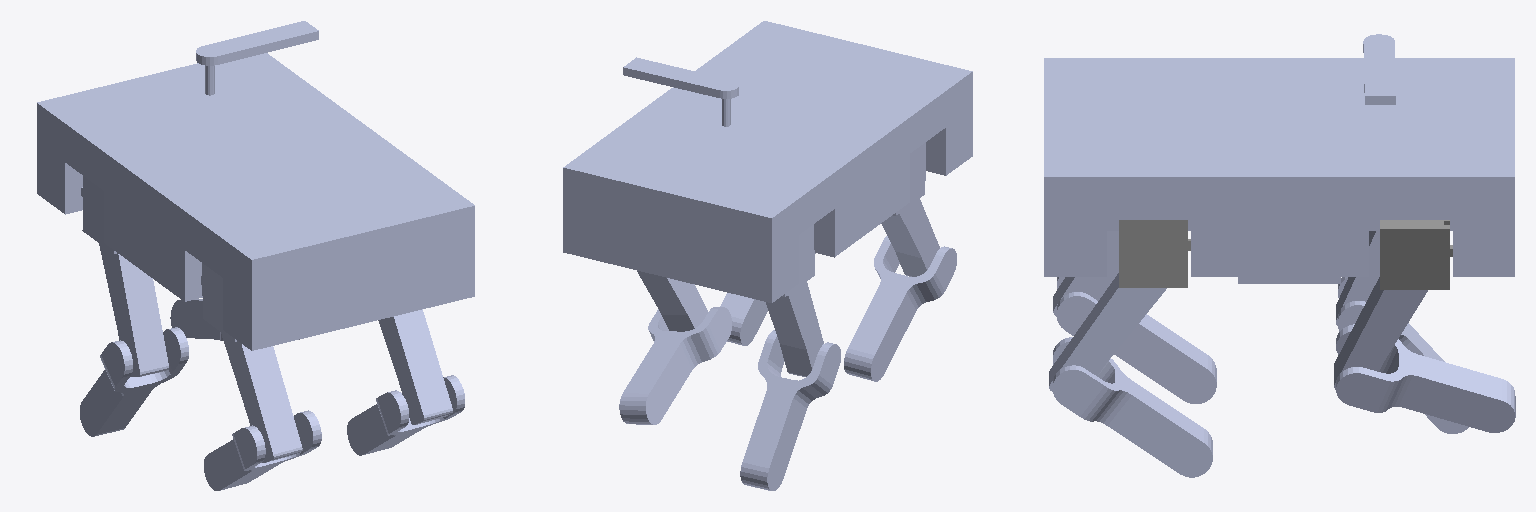
The robot description file, URDF, robot "rover_gazebosim":
<?xml version="1.0" encoding="utf-8"?>
<!-- This URDF was automatically created by SolidWorks to URDF Exporter! Originally created by Stephen Brawner (brawner@gmail.com) 
     Commit Version: 1.6.0-4-g7f85cfe  Build Version: 1.6.7995.38578
     For more information, please see http://wiki.ros.org/sw_urdf_exporter -->
<robot
  name="rover_gazebosim">
  <link
    name="body">
    <inertial>
      <origin
        xyz="0.113786796564404 0.210384838000589 -0.0515736103548764"
        rpy="0 0 0" />
      <mass
        value="11.151373897445" />
      <inertia
        ixx="0.194163171939644"
        ixy="9.7428792693228E-18"
        ixz="1.60735826972413E-17"
        iyy="0.0754852490416872"
        iyz="0.000332799994502401"
        izz="0.244153010760226" />
    </inertial>
    <visual>
      <origin
        xyz="0 0 0"
        rpy="0 0 0" />
      <geometry>
        <mesh
          filename="package://rover_gazebosim/meshes/body.STL" />
      </geometry>
      <material
        name="">
        <color
          rgba="0.792156862745098 0.819607843137255 0.933333333333333 1" />
      </material>
    </visual>
    <collision>
      <origin
        xyz="0 0 0"
        rpy="0 0 0" />
      <geometry>
        <mesh
          filename="package://rover_gazebosim/meshes/body.STL" />
      </geometry>
    </collision>
  </link>
  <link
    name="lf">
    <inertial>
      <origin
        xyz="0.00670884200432043 0.0342541979478499 0.00101544789727115"
        rpy="0 0 0" />
      <mass
        value="0.109939448590777" />
      <inertia
        ixx="9.39389980696909E-05"
        ixy="9.99024686964962E-07"
        ixz="1.83827439379185E-05"
        iyy="0.000126169030112145"
        iyz="-1.17698408701748E-06"
        izz="0.000114820764088305" />
    </inertial>
    <visual>
      <origin
        xyz="0 0 0"
        rpy="0 0 0" />
      <geometry>
        <mesh
          filename="package://rover_gazebosim/meshes/lf.STL" />
      </geometry>
      <material
        name="">
        <color
          rgba="0.792156862745098 0.819607843137255 0.933333333333333 1" />
      </material>
    </visual>
    <collision>
      <origin
        xyz="0 0 0"
        rpy="0 0 0" />
      <geometry>
        <mesh
          filename="package://rover_gazebosim/meshes/lf.STL" />
      </geometry>
    </collision>
  </link>
  <joint
    name="j1"
    type="revolute">
    <origin
      xyz="0.028418 0.305 -0.0887"
      rpy="0 0 0" />
    <parent
      link="body" />
    <child
      link="lf" />
    <axis
      xyz="0 -1 0" />
    <limit
      lower="-3.15"
      upper="3.15"
      effort="100"
      velocity="2" />
  </joint>
  <link
    name="lft">
    <inertial>
      <origin
        xyz="0.0249546351051042 -0.0265951672077813 -0.0611042640329306"
        rpy="0 0 0" />
      <mass
        value="0.214968868775256" />
      <inertia
        ixx="0.000553438869008273"
        ixy="-1.65313928690804E-06"
        ixz="-3.81921876719966E-06"
        iyy="0.000472387692450724"
        iyz="-0.000185459644548603"
        izz="0.000125008740988362" />
    </inertial>
    <visual>
      <origin
        xyz="0 0 0"
        rpy="0 0 0" />
      <geometry>
        <mesh
          filename="package://rover_gazebosim/meshes/lft.STL" />
      </geometry>
      <material
        name="">
        <color
          rgba="0.792156862745098 0.819607843137255 0.933333333333333 1" />
      </material>
    </visual>
    <collision>
      <origin
        xyz="0 0 0"
        rpy="0 0 0" />
      <geometry>
        <mesh
          filename="package://rover_gazebosim/meshes/lft.STL" />
      </geometry>
    </collision>
  </link>
  <joint
    name="j12"
    type="revolute">
    <origin
      xyz="-0.030376 0.033595 -0.027163"
      rpy="0 0 0" />
    <parent
      link="lf" />
    <child
      link="lft" />
    <axis
      xyz="-0.99996 0 0.0089134" />
    <limit
      lower="-3.15"
      upper="3.15"
      effort="100"
      velocity="2" />
  </joint>
  <link
    name="lfc">
    <inertial>
      <origin
        xyz="-0.0292186212615104 0.0490977223371922 -0.0580543027687059"
        rpy="0 0 0" />
      <mass
        value="0.222303065519725" />
      <inertia
        ixx="0.000511641589017345"
        ixy="1.996880463663E-06"
        ixz="-1.99585563630291E-06"
        iyy="0.000365182486857749"
        iyz="0.000224022708751582"
        izz="0.000287751642436189" />
    </inertial>
    <visual>
      <origin
        xyz="0 0 0"
        rpy="0 0 0" />
      <geometry>
        <mesh
          filename="package://rover_gazebosim/meshes/lfc.STL" />
      </geometry>
      <material
        name="">
        <color
          rgba="0.792156862745098 0.819607843137255 0.933333333333333 1" />
      </material>
    </visual>
    <collision>
      <origin
        xyz="0 0 0"
        rpy="0 0 0" />
      <geometry>
        <mesh
          filename="package://rover_gazebosim/meshes/lfc.STL" />
      </geometry>
    </collision>
  </link>
  <joint
    name="j13"
    type="revolute">
    <origin
      xyz="0.056793 -0.053485 -0.12428"
      rpy="0 0 0" />
    <parent
      link="lft" />
    <child
      link="lfc" />
    <axis
      xyz="0.99996 0 -0.0089134" />
    <limit
      lower="-3.15"
      upper="3.15"
      effort="100"
      velocity="2" />
  </joint>
  <link
    name="rf">
    <inertial>
      <origin
        xyz="-0.00633865104283948 0.0342291979477745 0.00242095114205709"
        rpy="0 0 0" />
      <mass
        value="0.109939448590778" />
      <inertia
        ixx="8.72356406340229E-05"
        ixy="-1.22677409895047E-06"
        ixz="-1.23698153691151E-05"
        iyy="0.000126169030112146"
        iyz="-9.37212449982516E-07"
        izz="0.000121524121523972" />
    </inertial>
    <visual>
      <origin
        xyz="0 0 0"
        rpy="0 0 0" />
      <geometry>
        <mesh
          filename="package://rover_gazebosim/meshes/rf.STL" />
      </geometry>
      <material
        name="">
        <color
          rgba="0.627450980392157 0.627450980392157 0.627450980392157 1" />
      </material>
    </visual>
    <collision>
      <origin
        xyz="0 0 0"
        rpy="0 0 0" />
      <geometry>
        <mesh
          filename="package://rover_gazebosim/meshes/rf.STL" />
      </geometry>
    </collision>
  </link>
  <joint
    name="j2"
    type="revolute">
    <origin
      xyz="0.19876 0.30502 -0.0875"
      rpy="0 0 0" />
    <parent
      link="body" />
    <child
      link="rf" />
    <axis
      xyz="0 -1 0" />
    <limit
      lower="-3.15"
      upper="3.15"
      effort="100"
      velocity="2" />
  </joint>
  <link
    name="rft">
    <inertial>
      <origin
        xyz="-0.0373233578683926 -0.0273933610198274 -0.0540401763848489"
        rpy="0 0 0" />
      <mass
        value="0.214968868775256" />
      <inertia
        ixx="0.000535801218761615"
        ixy="-3.88031776575497E-05"
        ixz="-8.4692121806799E-05"
        iyy="0.000467450702036031"
        iyz="-0.000185965391353131"
        izz="0.000147583381649704" />
    </inertial>
    <visual>
      <origin
        xyz="0 0 0"
        rpy="0 0 0" />
      <geometry>
        <mesh
          filename="package://rover_gazebosim/meshes/rft.STL" />
      </geometry>
      <material
        name="">
        <color
          rgba="0.792156862745098 0.819607843137255 0.933333333333333 1" />
      </material>
    </visual>
    <collision>
      <origin
        xyz="0 0 0"
        rpy="0 0 0" />
      <geometry>
        <mesh
          filename="package://rover_gazebosim/meshes/rft.STL" />
      </geometry>
    </collision>
  </link>
  <joint
    name="j22"
    type="revolute">
    <origin
      xyz="0.023894 0.03357 -0.03301"
      rpy="0 0 0" />
    <parent
      link="rf" />
    <child
      link="rft" />
    <axis
      xyz="0.97892 0 -0.20426" />
    <limit
      lower="-3.15"
      upper="3.15"
      effort="100"
      velocity="2" />
  </joint>
  <link
    name="rfc">
    <inertial>
      <origin
        xyz="0.0227839827278775 0.0716580268119713 -0.0313150815339128"
        rpy="0 0 0" />
      <mass
        value="0.222303065519726" />
      <inertia
        ixx="0.000511210915176803"
        ixy="2.97798988949999E-05"
        ixz="-2.14927898202122E-06"
        iyy="0.000152005907483818"
        iyz="0.000142721057572667"
        izz="0.000501358895650669" />
    </inertial>
    <visual>
      <origin
        xyz="0 0 0"
        rpy="0 0 0" />
      <geometry>
        <mesh
          filename="package://rover_gazebosim/meshes/rfc.STL" />
      </geometry>
      <material
        name="">
        <color
          rgba="0.792156862745098 0.819607843137255 0.933333333333333 1" />
      </material>
    </visual>
    <collision>
      <origin
        xyz="0 0 0"
        rpy="0 0 0" />
      <geometry>
        <mesh
          filename="package://rover_gazebosim/meshes/rfc.STL" />
      </geometry>
    </collision>
  </link>
  <joint
    name="j23"
    type="revolute">
    <origin
      xyz="-0.082726 -0.055033 -0.10959"
      rpy="0 0 0" />
    <parent
      link="rft" />
    <child
      link="rfc" />
    <axis
      xyz="0.97892 0 -0.20426" />
    <limit
      lower="-3.15"
      upper="3.15"
      effort="100"
      velocity="2" />
  </joint>
  <link
    name="rb">
    <inertial>
      <origin
        xyz="-0.00662232922928152 0.0444542043625005 0.00112191050349619"
        rpy="0 0 0" />
      <mass
        value="0.109939448590778" />
      <inertia
        ixx="9.44550211019587E-05"
        ixy="-9.82536274128306E-07"
        ixz="-1.86663994154545E-05"
        iyy="0.000126169030112145"
        iyz="-1.19078307692047E-06"
        izz="0.000114304741056036" />
    </inertial>
    <visual>
      <origin
        xyz="0 0 0"
        rpy="0 0 0" />
      <geometry>
        <mesh
          filename="package://rover_gazebosim/meshes/rb.STL" />
      </geometry>
      <material
        name="">
        <color
          rgba="0.627450980392157 0.627450980392157 0.627450980392157 1" />
      </material>
    </visual>
    <collision>
      <origin
        xyz="0 0 0"
        rpy="0 0 0" />
      <geometry>
        <mesh
          filename="package://rover_gazebosim/meshes/rb.STL" />
      </geometry>
    </collision>
  </link>
  <joint
    name="j3"
    type="revolute">
    <origin
      xyz="0.19876 0.045 -0.0877"
      rpy="0 0 0" />
    <parent
      link="body" />
    <child
      link="rb" />
    <axis
      xyz="0 -1 0" />
    <limit
      lower="-3.15"
      upper="3.15"
      effort="100"
      velocity="2" />
  </joint>
  <link
    name="rbt">
    <inertial>
      <origin
        xyz="-0.0242422792739249 -0.0376990677299545 -0.0552708001608133"
        rpy="0 0 0" />
      <mass
        value="0.214968868775255" />
      <inertia
        ixx="0.000553292135114359"
        ixy="5.41171406291674E-06"
        ixz="7.91333849861869E-06"
        iyy="0.000390468192961197"
        iyz="-0.000236892001227658"
        izz="0.000207074974371801" />
    </inertial>
    <visual>
      <origin
        xyz="0 0 0"
        rpy="0 0 0" />
      <geometry>
        <mesh
          filename="package://rover_gazebosim/meshes/rbt.STL" />
      </geometry>
      <material
        name="">
        <color
          rgba="0.792156862745098 0.819607843137255 0.933333333333333 1" />
      </material>
    </visual>
    <collision>
      <origin
        xyz="0 0 0"
        rpy="0 0 0" />
      <geometry>
        <mesh
          filename="package://rover_gazebosim/meshes/rbt.STL" />
      </geometry>
    </collision>
  </link>
  <joint
    name="j32"
    type="revolute">
    <origin
      xyz="0.030851 0.043795 -0.026538"
      rpy="0 0 0" />
    <parent
      link="rb" />
    <child
      link="rbt" />
    <axis
      xyz="0.99974 0 0.022839" />
    <limit
      lower="-3.15"
      upper="3.15"
      effort="100"
      velocity="2" />
  </joint>
  <link
    name="rbc">
    <inertial>
      <origin
        xyz="0.0297150919921361 0.0616943451637069 -0.0441071139189825"
        rpy="0 0 0" />
      <mass
        value="0.222303065519725" />
      <inertia
        ixx="0.000511599541559762"
        ixy="-4.93664302851959E-06"
        ixz="2.61934444605325E-06"
        iyy="0.000255975801811284"
        iyz="0.000216096274263026"
        izz="0.00039700037494024" />
    </inertial>
    <visual>
      <origin
        xyz="0 0 0"
        rpy="0 0 0" />
      <geometry>
        <mesh
          filename="package://rover_gazebosim/meshes/rbc.STL" />
      </geometry>
      <material
        name="">
        <color
          rgba="0.792156862745098 0.819607843137255 0.933333333333333 1" />
      </material>
    </visual>
    <collision>
      <origin
        xyz="0 0 0"
        rpy="0 0 0" />
      <geometry>
        <mesh
          filename="package://rover_gazebosim/meshes/rbc.STL" />
      </geometry>
    </collision>
  </link>
  <joint
    name="j33"
    type="revolute">
    <origin
      xyz="-0.056015 -0.076195 -0.11375"
      rpy="0 0 0" />
    <parent
      link="rbt" />
    <child
      link="rbc" />
    <axis
      xyz="-0.99974 0 -0.022839" />
    <limit
      lower="-3.15"
      upper="3.15"
      effort="100"
      velocity="2" />
  </joint>
  <link
    name="lb">
    <inertial>
      <origin
        xyz="0.00667026139954352 -0.0209458020522575 0.00124390574943112"
        rpy="0 0 0" />
      <mass
        value="0.109939448590777" />
      <inertia
        ixx="9.27087699208611E-05"
        ixy="1.03862858962795E-06"
        ixz="1.76273218906206E-05"
        iyy="0.000126169030112145"
        iyz="-1.14218760239494E-06"
        izz="0.000116050992237133" />
    </inertial>
    <visual>
      <origin
        xyz="0 0 0"
        rpy="0 0 0" />
      <geometry>
        <mesh
          filename="package://rover_gazebosim/meshes/lb.STL" />
      </geometry>
      <material
        name="">
        <color
          rgba="0.792156862745098 0.819607843137255 0.933333333333333 1" />
      </material>
    </visual>
    <collision>
      <origin
        xyz="0 0 0"
        rpy="0 0 0" />
      <geometry>
        <mesh
          filename="package://rover_gazebosim/meshes/lb.STL" />
      </geometry>
    </collision>
  </link>
  <joint
    name="j4"
    type="revolute">
    <origin
      xyz="0.028418 0.1104 -0.0885"
      rpy="0 0 0" />
    <parent
      link="body" />
    <child
      link="lb" />
    <axis
      xyz="0 -1 0" />
    <limit
      lower="-3.15"
      upper="3.15"
      effort="100"
      velocity="2" />
  </joint>
  <link
    name="lbt">
    <inertial>
      <origin
        xyz="0.0269012377270597 -0.0358698225135401 -0.0552580202863181"
        rpy="0 0 0" />
      <mass
        value="0.214968868775255" />
      <inertia
        ixx="0.000553242383170547"
        ixy="5.81314181584074E-06"
        ixz="9.13276082781338E-06"
        iyy="0.000405927796826689"
        iyz="-0.00023029618682678"
        izz="0.000191665122450116" />
    </inertial>
    <visual>
      <origin
        xyz="0 0 0"
        rpy="0 0 0" />
      <geometry>
        <mesh
          filename="package://rover_gazebosim/meshes/lbt.STL" />
      </geometry>
      <material
        name="">
        <color
          rgba="0.792156862745098 0.819607843137255 0.933333333333333 1" />
      </material>
    </visual>
    <collision>
      <origin
        xyz="0 0 0"
        rpy="0 0 0" />
      <geometry>
        <mesh
          filename="package://rover_gazebosim/meshes/lbt.STL" />
      </geometry>
    </collision>
  </link>
  <joint
    name="j42"
    type="revolute">
    <origin
      xyz="-0.029431 -0.021605 -0.028185"
      rpy="0 0 0" />
    <parent
      link="lb" />
    <child
      link="lbt" />
    <axis
      xyz="-0.99968 0 -0.025234" />
    <limit
      lower="-3.15"
      upper="3.15"
      effort="100"
      velocity="2" />
  </joint>
  <link
    name="lbc">
    <inertial>
      <origin
        xyz="-0.0378553071358961 0.0616240210136068 -0.0458408372004173"
        rpy="0 0 0" />
      <mass
        value="0.222303065519725" />
      <inertia
        ixx="0.000511585899803618"
        ixy="-5.45994658498779E-06"
        ixz="2.91100884864983E-06"
        iyy="0.000256654347930465"
        iyz="0.000216303836829514"
        izz="0.0003963354705772" />
    </inertial>
    <visual>
      <origin
        xyz="0 0 0"
        rpy="0 0 0" />
      <geometry>
        <mesh
          filename="package://rover_gazebosim/meshes/lbc.STL" />
      </geometry>
      <material
        name="">
        <color
          rgba="0.792156862745098 0.819607843137255 0.933333333333333 1" />
      </material>
    </visual>
    <collision>
      <origin
        xyz="0 0 0"
        rpy="0 0 0" />
      <geometry>
        <mesh
          filename="package://rover_gazebosim/meshes/lbc.STL" />
      </geometry>
    </collision>
  </link>
  <joint
    name="j43"
    type="revolute">
    <origin
      xyz="0.071048 -0.072349 -0.11202"
      rpy="0 0 0" />
    <parent
      link="lbt" />
    <child
      link="lbc" />
    <axis
      xyz="0.99968 0 0.025234" />
    <limit
      lower="-3.15"
      upper="3.15"
      effort="100"
      velocity="2" />
  </joint>
  <link
    name="rgbd">
    <inertial>
      <origin
        xyz="0.0519757991577148 0.000553862591645693 -0.0117174770516906"
        rpy="0 0 0" />
      <mass
        value="0.0436947873204671" />
      <inertia
        ixx="5.44455523267729E-06"
        ixy="-7.27236303772772E-07"
        ixz="-3.90051316736406E-06"
        iyy="7.36824114503765E-05"
        iyz="-4.15645043632964E-08"
        izz="7.42538677078591E-05" />
    </inertial>
    <visual>
      <origin
        xyz="0 0 0"
        rpy="0 0 0" />
      <geometry>
        <mesh
          filename="package://rover_gazebosim/meshes/rgbd.STL" />
      </geometry>
      <material
        name="">
        <color
          rgba="0.792156862745098 0.819607843137255 0.933333333333333 1" />
      </material>
    </visual>
    <collision>
      <origin
        xyz="0 0 0"
        rpy="0 0 0" />
      <geometry>
        <mesh
          filename="package://rover_gazebosim/meshes/rgbd.STL" />
      </geometry>
    </collision>
  </link>
  <joint
    name="j5"
    type="revolute">
    <origin
      xyz="0.11325 0.30476 0.0856"
      rpy="0 0 0" />
    <parent
      link="body" />
    <child
      link="rgbd" />
    <axis
      xyz="0 0 -1" />
    <limit
      lower="-3.15"
      upper="3.15"
      effort="100"
      velocity="2" />
  </joint>

<!-- ros2_control hardware interface — 12 leg joints only, not camera -->
  <ros2_control name="GazeboSystem" type="system">
    <hardware>
      <plugin>ign_ros2_control/IgnitionSystem</plugin>
    </hardware>

    <!-- Left Front -->
    <joint name="j1">
      <command_interface name="position"/>
      <state_interface name="position"/>
      <state_interface name="velocity"/>
    </joint>
    <joint name="j12">
      <command_interface name="position"/>
      <state_interface name="position"/>
      <state_interface name="velocity"/>
    </joint>
    <joint name="j13">
      <command_interface name="position"/>
      <state_interface name="position"/>
      <state_interface name="velocity"/>
    </joint>

    <!-- Right Front -->
    <joint name="j2">
      <command_interface name="position"/>
      <state_interface name="position"/>
      <state_interface name="velocity"/>
    </joint>
    <joint name="j22">
      <command_interface name="position"/>
      <state_interface name="position"/>
      <state_interface name="velocity"/>
    </joint>
    <joint name="j23">
      <command_interface name="position"/>
      <state_interface name="position"/>
      <state_interface name="velocity"/>
    </joint>

    <!-- Right Back -->
    <joint name="j3">
      <command_interface name="position"/>
      <state_interface name="position"/>
      <state_interface name="velocity"/>
    </joint>
    <joint name="j32">
      <command_interface name="position"/>
      <state_interface name="position"/>
      <state_interface name="velocity"/>
    </joint>
    <joint name="j33">
      <command_interface name="position"/>
      <state_interface name="position"/>
      <state_interface name="velocity"/>
    </joint>

    <!-- Left Back -->
    <joint name="j4">
      <command_interface name="position"/>
      <state_interface name="position"/>
      <state_interface name="velocity"/>
    </joint>
    <joint name="j42">
      <command_interface name="position"/>
      <state_interface name="position"/>
      <state_interface name="velocity"/>
    </joint>
    <joint name="j43">
      <command_interface name="position"/>
      <state_interface name="position"/>
      <state_interface name="velocity"/>
    </joint>
  </ros2_control>

  <!-- Gazebo Fortress plugin — loads controller_manager inside Gazebo -->
  <gazebo>
    <plugin filename="libign_ros2_control-system.so"
            name="ign_ros2_control::IgnitionROS2ControlPlugin">
      <parameters>package://rover_gazebosim/config/controllers.yaml</parameters>
    </plugin>
  </gazebo>

</robot>

--- Render facts (derived) ---
3 views of the same robot in one strip: view 1: azimuth 30°, elevation 25°; view 2: azimuth 150°, elevation 25°; view 3: azimuth 270°, elevation 25° (orthographic).
Robot: rover_gazebosim — 14 links, 13 joints (13 revolute); root link body; default pose: every joint at zero.
Links seen in each view (by area): view 1: body, lfc, lbt, lft, rbt, lbc, rbc, rgbd, rfc, lf, lb; view 2: body, lfc, lbc, rfc, lft, lbt, rgbd, rft, rbc, lb, lf; view 3: body, rfc, rbc, lbc, rf, rb, rbt, rft, rgbd, lfc, lbt, lft.
Boxes of the visible links, x1,y1,x2,y2 form: body: (37, 53, 474, 350); lfc: (80, 327, 188, 436); lbt: (221, 332, 302, 462); lft: (99, 244, 168, 376); rbt: (378, 309, 452, 424); lbc: (204, 410, 321, 490); rbc: (347, 375, 464, 455); rgbd: (196, 21, 318, 95); rfc: (170, 299, 299, 340); lf: (81, 176, 116, 253); lb: (201, 263, 236, 341); body: (563, 21, 972, 302); lfc: (740, 330, 840, 490); lbc: (844, 236, 956, 381); rfc: (619, 307, 731, 424); lft: (766, 282, 823, 376); lbt: (881, 199, 939, 276); rgbd: (623, 57, 738, 126); rft: (637, 271, 707, 331); rbc: (720, 253, 815, 345); lb: (893, 142, 925, 215); lf: (782, 224, 814, 296); body: (1044, 58, 1514, 283); rfc: (1336, 324, 1515, 432); rbc: (1053, 337, 1212, 477); lbc: (1057, 277, 1216, 403); rf: (1380, 220, 1452, 289); rb: (1119, 220, 1190, 287); rbt: (1049, 273, 1166, 391); rft: (1334, 277, 1427, 389); rgbd: (1363, 34, 1395, 104); lfc: (1338, 277, 1468, 433); lbt: (1053, 231, 1118, 316); lft: (1336, 231, 1379, 325).
Bounding box of the posed robot: 0.27 × 0.4501 × 0.4477 m (x, y, z).
14 mesh visuals loaded from 14 distinct referenced files (14 binary STL).
